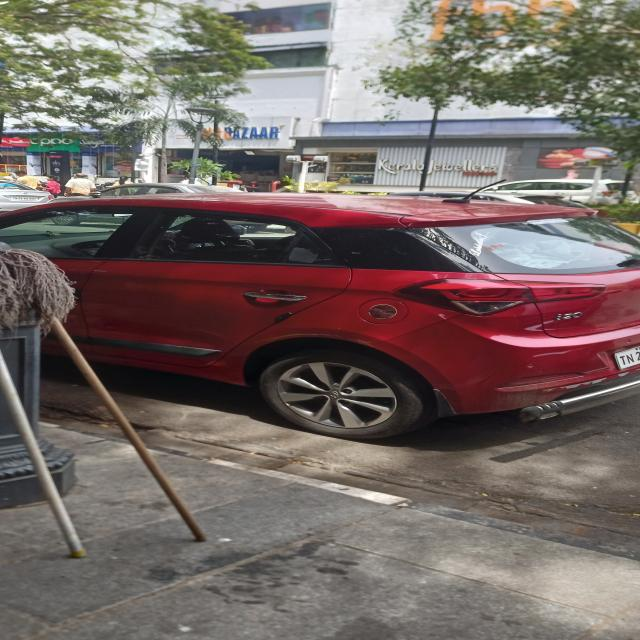scratch: (253, 333, 374, 347)
